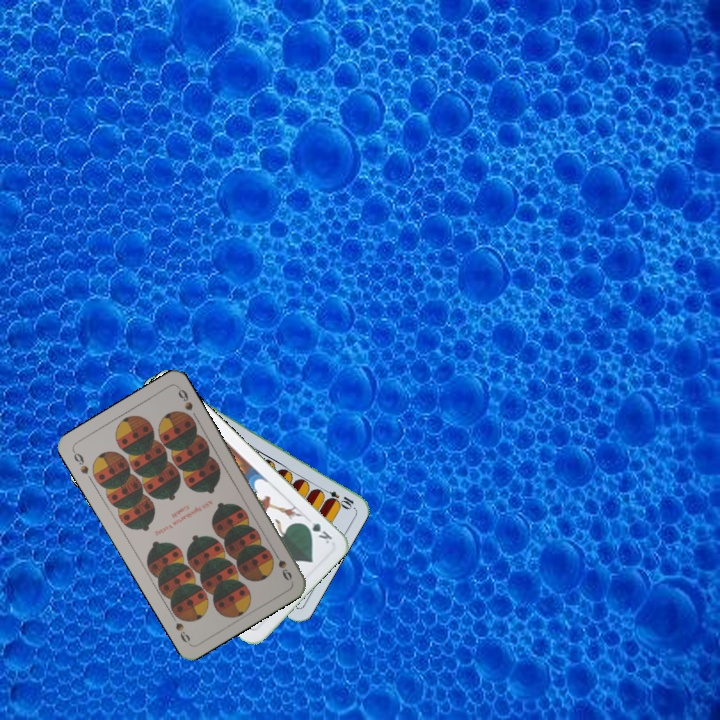E10: (317, 484, 356, 511)
GK: (299, 517, 335, 547)
S9: (269, 546, 295, 583), (69, 446, 91, 477)
